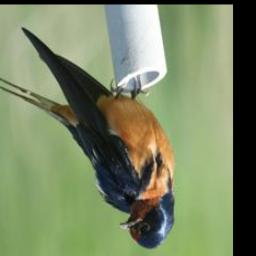Swallow: (0, 31, 177, 254)
